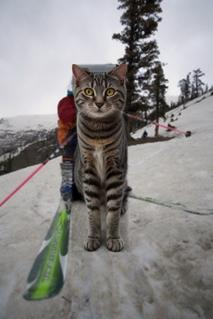cat: (72, 64, 127, 251)
person: (59, 73, 131, 195)
